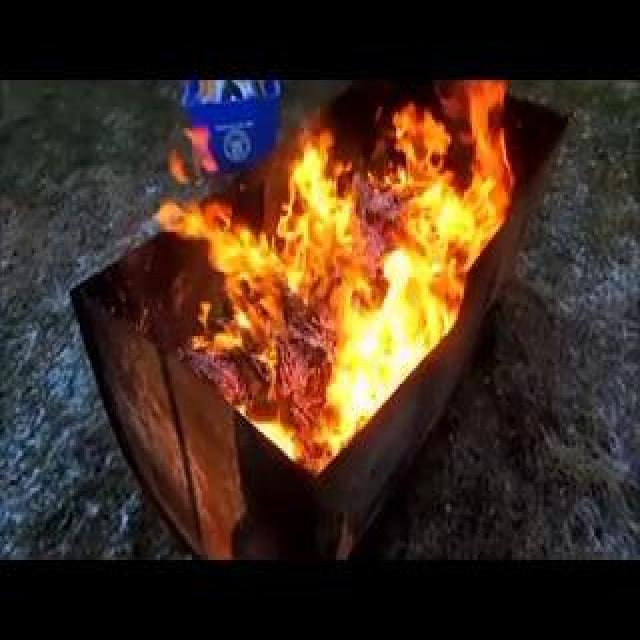Fire: (332, 284, 351, 402)
